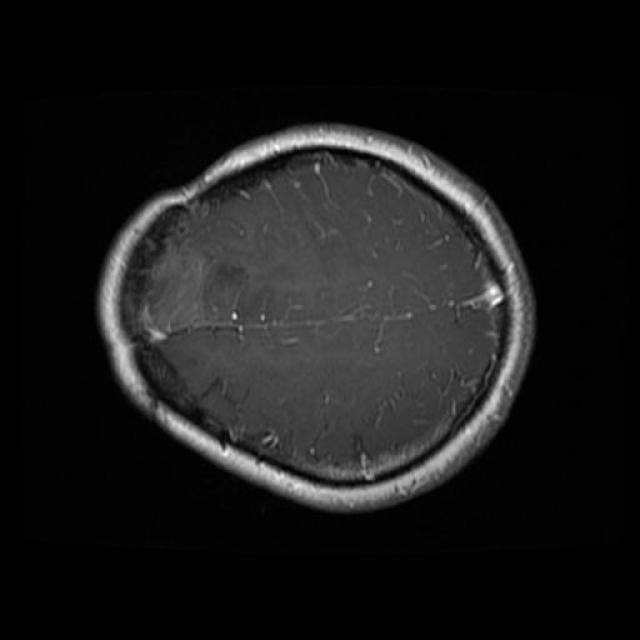Glioma: (126, 227, 279, 343)
